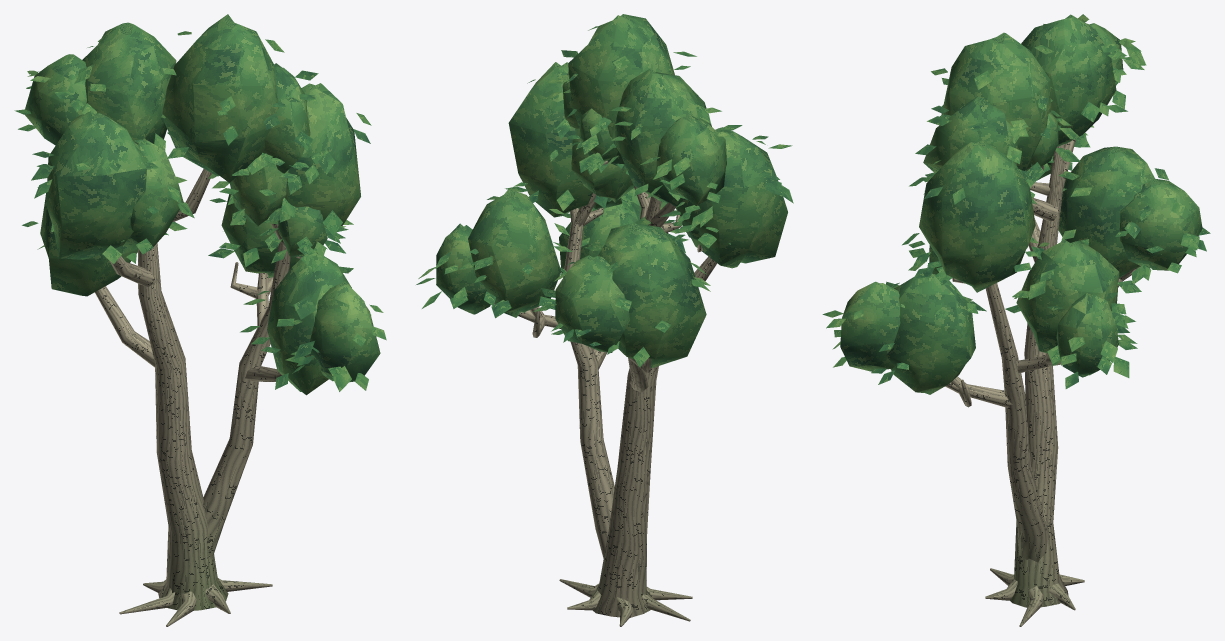
The model's file is tree-alder.glb.
3 views of the same model, side by side, from view 1: azimuth 30°, elevation 25°; view 2: azimuth 150°, elevation 25°; view 3: azimuth 270°, elevation 25° (orthographic). The views are drawn at different scales.
Parts seen in each view (by area): view 1: Tree_alder; view 2: Tree_alder; view 3: Tree_alder.
Boxes of the visible parts, left/top/right/bottom form: Tree_alder: left=14, top=14, right=386, bottom=626; Tree_alder: left=416, top=14, right=793, bottom=626; Tree_alder: left=822, top=14, right=1210, bottom=626.
Bounding box in the file's own units: 5.55 × 9.1 × 5.63.
2 materials, 2 textured.
